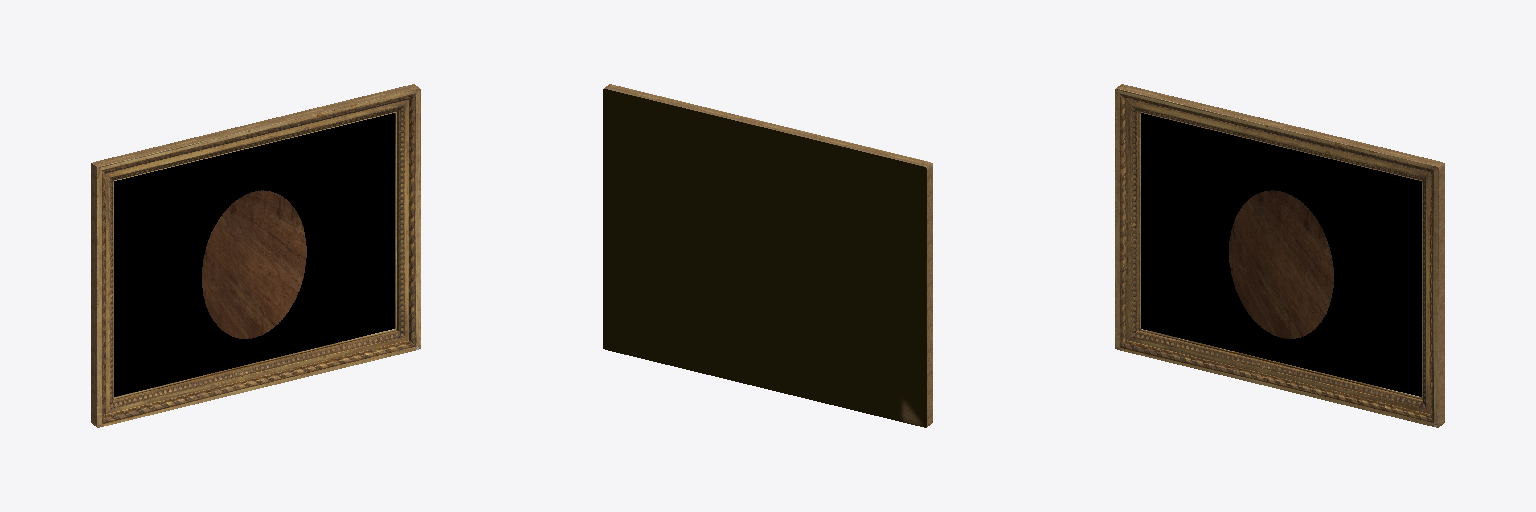
The picture shows the model from 3 angles: view 1: azimuth 30°, elevation 25°; view 2: azimuth 150°, elevation 25°; view 3: azimuth 330°, elevation 25°; orthographic projection.
Visible parts, largest first — view 1: crate_canvas, crate_frame; view 2: crate_frame; view 3: crate_canvas, crate_frame.
Boxes of the visible parts, x1=… form: crate_canvas: x1=114, y1=113, x2=394, y2=396; crate_frame: x1=91, y1=84, x2=420, y2=427; crate_frame: x1=603, y1=84, x2=932, y2=427; crate_canvas: x1=1141, y1=113, x2=1421, y2=396; crate_frame: x1=1115, y1=84, x2=1444, y2=427.
Size of the model in its own units: 0.603 by 0.4641 by 0.02.
2 materials, 2 textured.